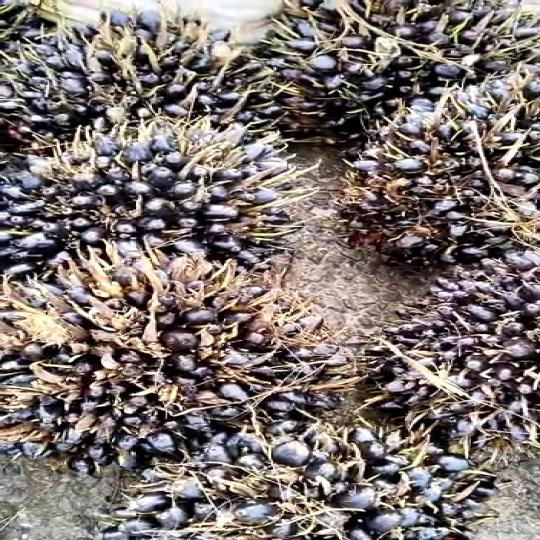mentah: (1, 262, 348, 468), (0, 113, 316, 279), (64, 423, 504, 540), (310, 63, 540, 278), (0, 2, 301, 164), (360, 238, 540, 464)
